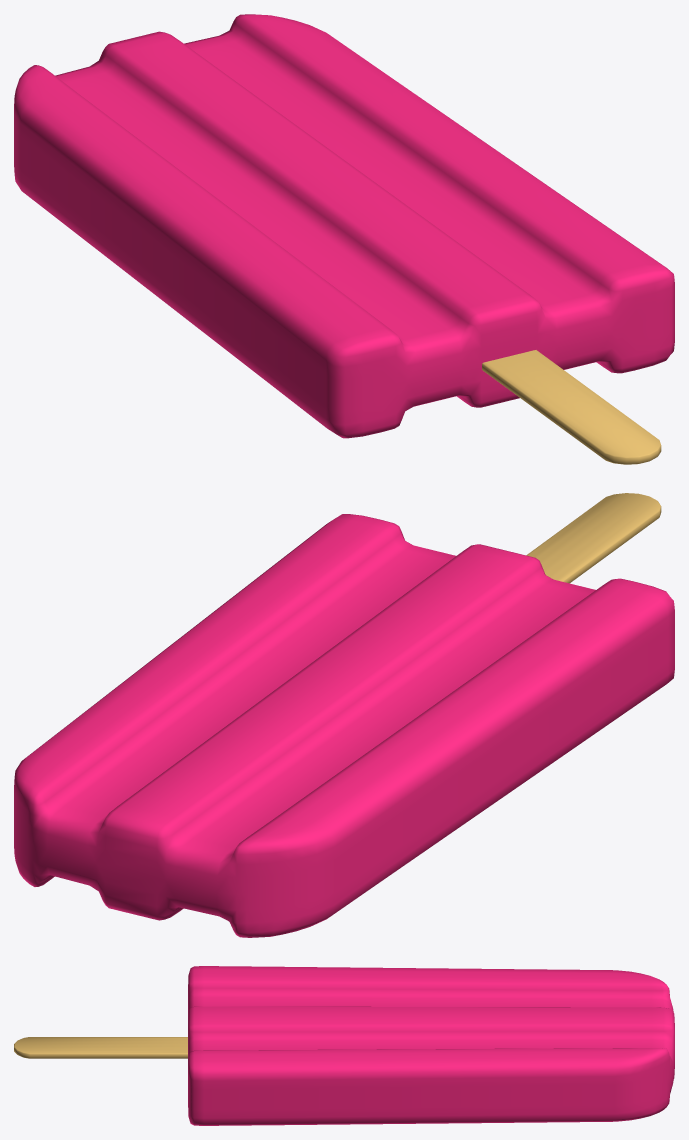
The model's file is Popsicle.fbx.
3 renders of one model, top to bottom at view 1: azimuth 30°, elevation 25°; view 2: azimuth 150°, elevation 25°; view 3: azimuth 270°, elevation 25°, orthographic. The views are drawn at different scales.
Parts seen in each view (by area): view 1: Popsicle; view 2: Popsicle; view 3: Popsicle.
Boxes of the visible parts, <box> form: Popsicle: <box>14,14,674,464</box>; Popsicle: <box>14,493,674,937</box>; Popsicle: <box>14,966,674,1125</box>.
Bounding box in the file's own units: 278 × 74.44 × 723.
